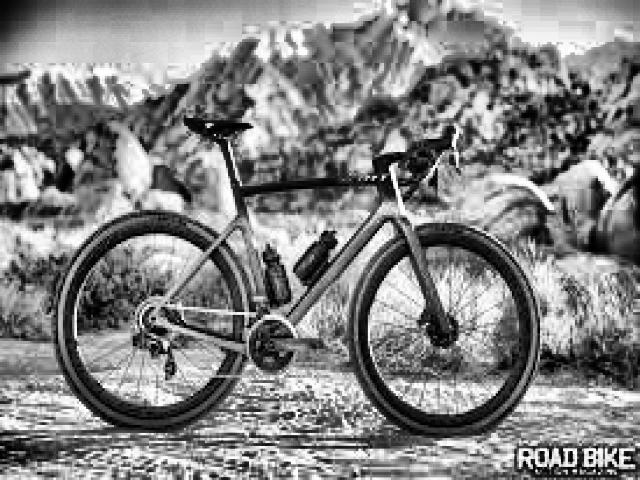cranks_set: (246, 311, 325, 376)
pedal: (307, 337, 328, 350)
rear_derailleur: (132, 332, 178, 380)
saddle: (183, 111, 254, 139)
sti_shifter: (441, 124, 464, 177)
wheel: (50, 210, 258, 435), (344, 222, 544, 441)
